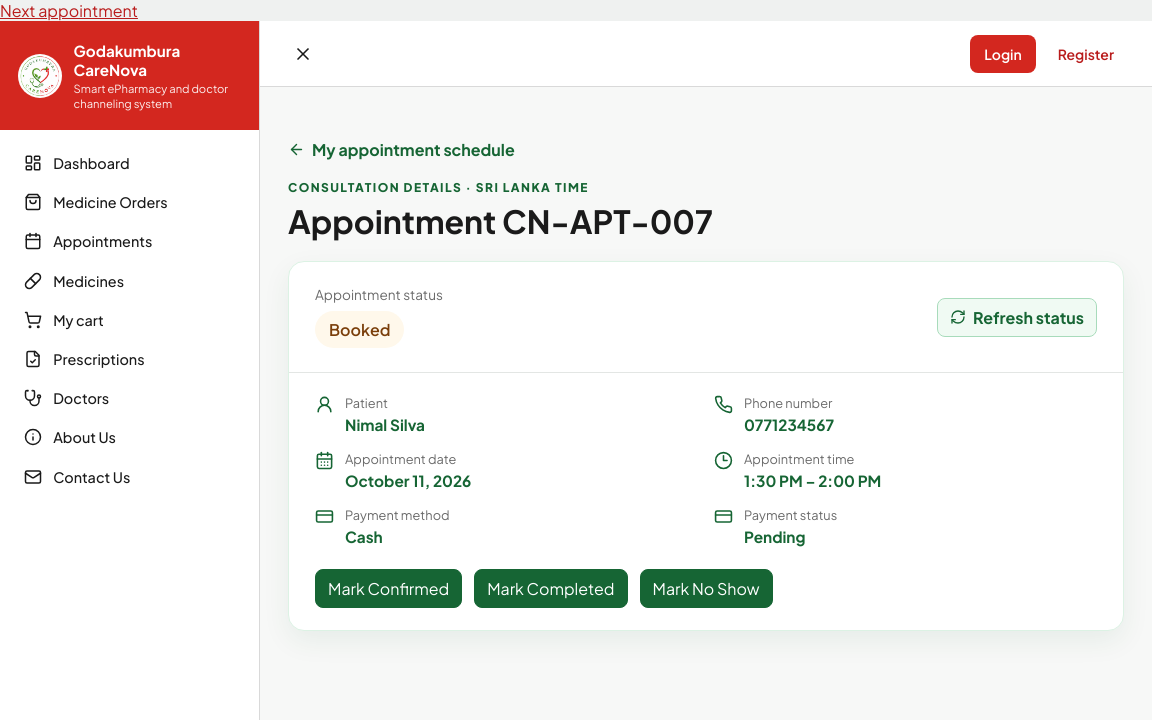
Test case: does not show success for an invalid confirmation {"status":204}
Click the button "Mark Completed": (551, 589) [474,569,628,608]
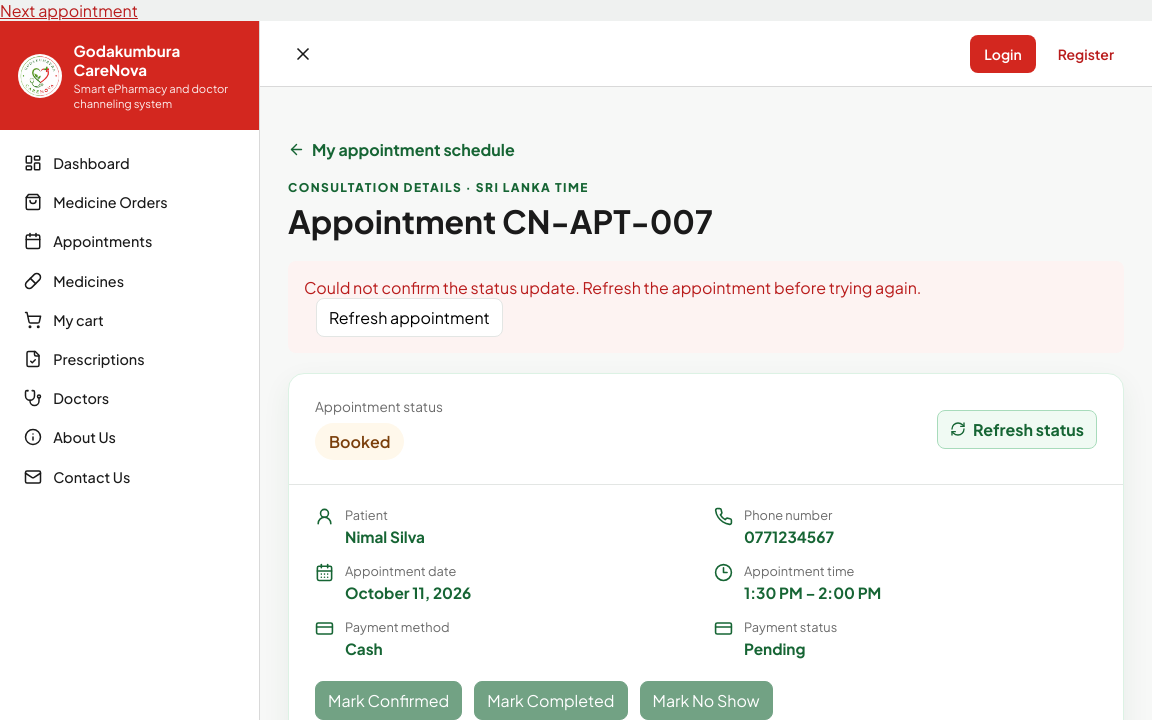
Expected: the text "Nimal Silva" is shown, [345,527,425,546]
Expected: the message is shown, [288,261,1124,353]
